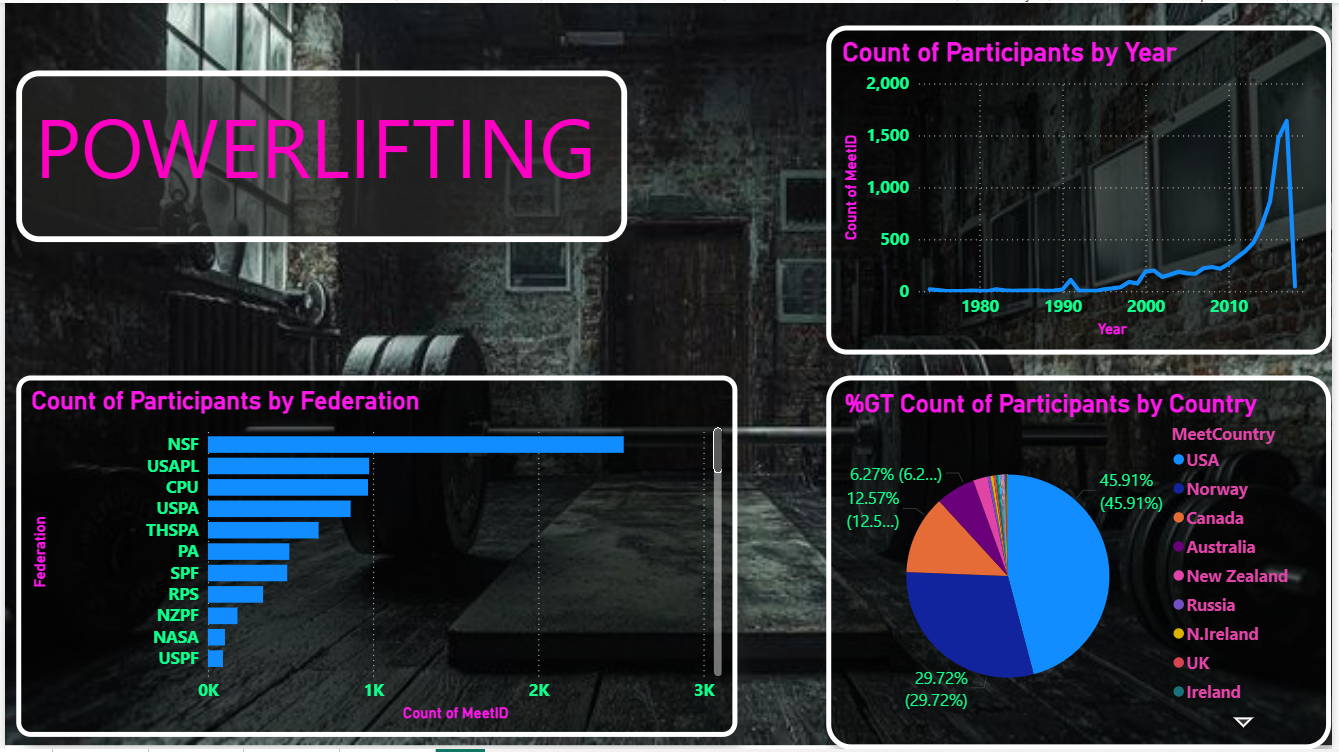

Layout of this report page (visuals, bound fields, positions):
{"tool":"powerbi","page":{"name":"Page 5","canvas":[1280,720],"ordinal":4},"visuals":[{"type":"pieChart","title":"%GT Count of Participants  by Country","fields":{"Y":["CountNonNull(meets.MeetID)"],"Category":["meets.MeetCountry"]},"box":[792.6,359.5,487.4,360.7],"z":0},{"type":"clusteredBarChart","title":"Count of Participants by Federation","fields":{"Y":["CountNonNull(meets.MeetID)"],"Category":["meets.Federation"]},"box":[10.9,359.5,696.1,348.7],"z":1000},{"type":"lineChart","title":"Count of Participants by Year","fields":{"Category":["meets.Date.Variation.Date Hierarchy.Year"],"Y":["CountNonNull(meets.MeetID)"]},"box":[792.6,21.7,487.4,317.3],"z":2000},{"type":"textbox","box":[10.9,65.1,589.9,165.3],"z":2001}]}

Visuals, with their boxes in screenshot pixels (x1, y1, x2, y2), scaled from the page's 1280x720 canvas onto the 1339x752 screenshot:
"%GT Count of Participants  by Country" pieChart: (829, 375, 1338, 751)
"Count of Participants by Federation" clusteredBarChart: (11, 375, 740, 740)
"Count of Participants by Year" lineChart: (829, 23, 1338, 354)
textbox: (11, 68, 628, 241)
